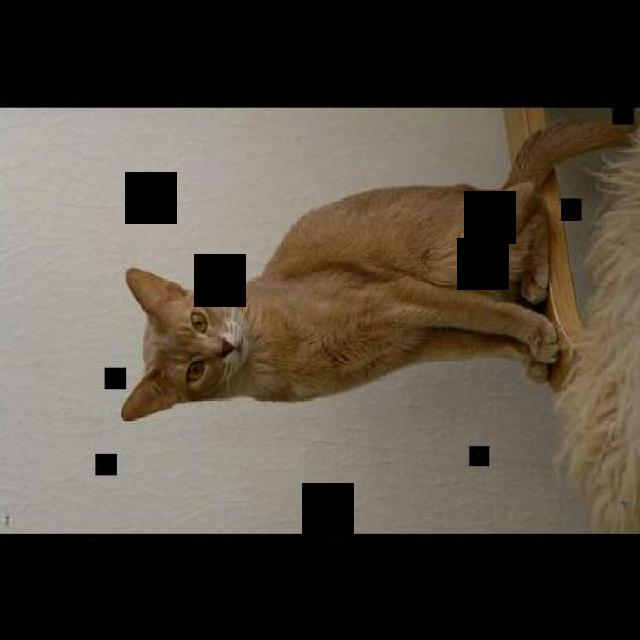unauthorized: (119, 116, 638, 422), (551, 110, 638, 536)
